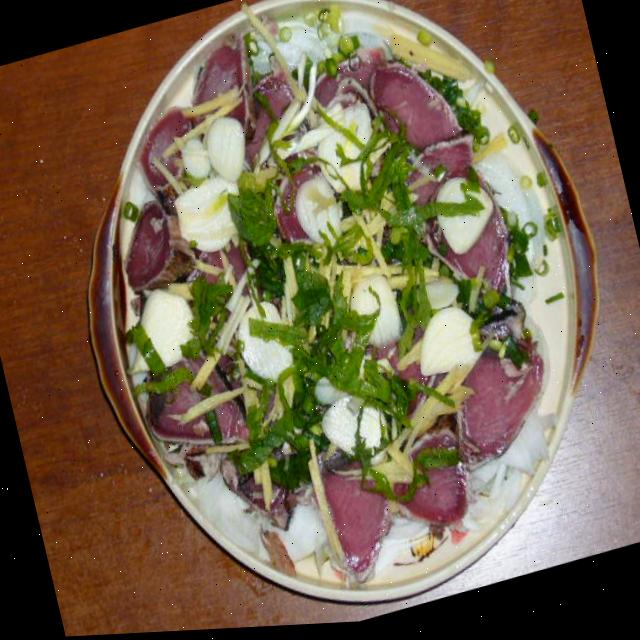熟制海鲜: (8, 0, 640, 640)
